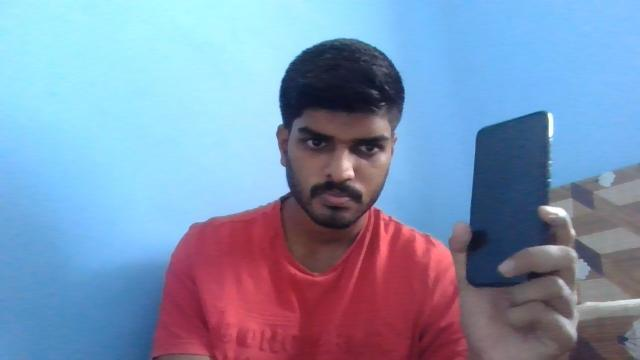PhoneUse: (466, 114, 556, 294)
SafeDriving: (294, 128, 336, 154), (346, 136, 390, 158)
